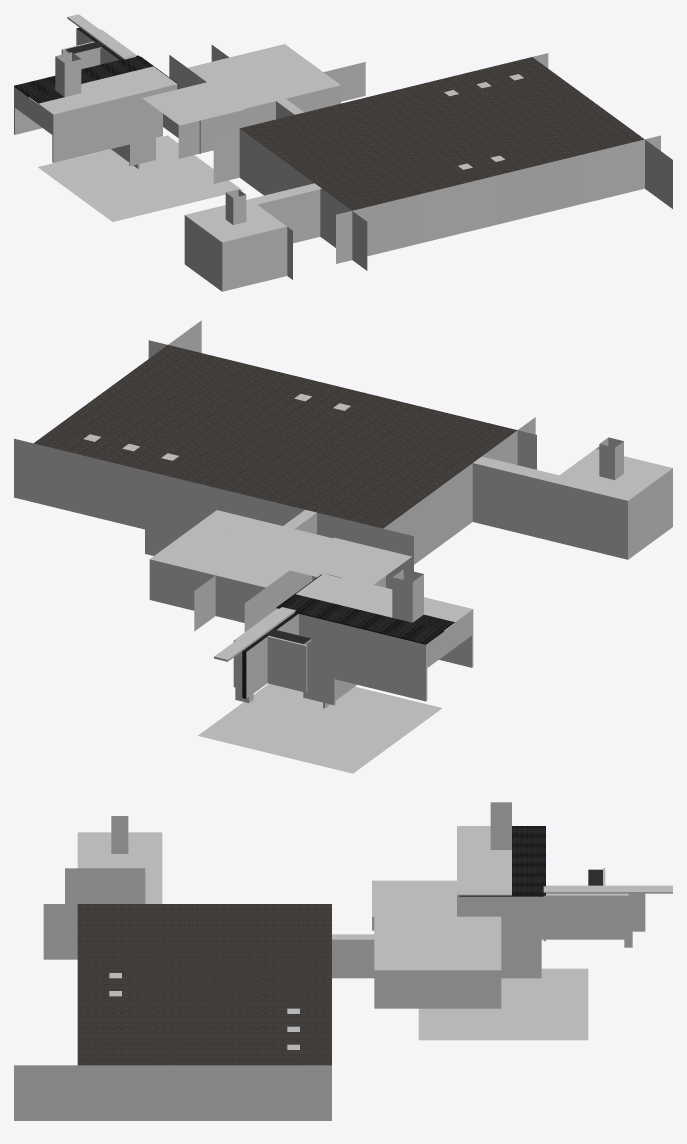
File: MapCobble.obj
3 views of the same model, one above another, from view 1: azimuth 30°, elevation 25°; view 2: azimuth 150°, elevation 25°; view 3: azimuth 270°, elevation 25° (orthographic). The views are drawn at different scales.
Parts seen in each view (by area): view 1: Plane.008_Plane.000, Plane.002_Plane.002, Plane.028_Plane.002, Entrance_Wall.006_Cube.002, Plane.050_Plane.002, Plane.049_Plane.001, Plane.033_Plane.001, Plane.048_Plane.002, Plane.120_Plane.002, Plane.016_Plane.002, Plane.041_Plane.001, Entrance_Wall.007_Cube.002 (+20 smaller); view 2: Plane.008_Plane.000, Plane.002_Plane.002, Plane.028_Plane.002, Entrance_Wall.005_Cube.002, Plane.105_Plane.001, Plane.103_Plane.001, Plane.121_Plane.001, Plane.056_Plane.000, Plane.102_Plane.002, Plane.017_Plane.001, Plane.016_Plane.002, Entrance_Wall.008_Cube.001 (+19 smaller); view 3: Plane.008_Plane.000, Plane.002_Plane.002, Plane.028_Plane.002, Plane.046_Plane.001, Plane.043_Plane.002, Plane.042_Plane.002, Plane.015_Plane.001, Entrance_Wall.001_Cube.002, Plane.016_Plane.002, Plane.117_Plane.001, Entrance_Wall.008_Cube.001, Entrance_Wall.007_Cube.002 (+12 smaller).
Part boxes in pixels (bbox=[...]): Plane.008_Plane.000: bbox=[240, 57, 644, 210]; Plane.002_Plane.002: bbox=[38, 135, 242, 221]; Plane.028_Plane.002: bbox=[187, 44, 340, 108]; Entrance_Wall.006_Cube.002: bbox=[52, 89, 162, 162]; Plane.050_Plane.002: bbox=[417, 175, 498, 243]; Plane.049_Plane.001: bbox=[498, 155, 579, 224]; Plane.033_Plane.001: bbox=[336, 195, 417, 263]; Plane.048_Plane.002: bbox=[579, 135, 660, 204]; Plane.120_Plane.002: bbox=[222, 226, 287, 291]; Plane.016_Plane.002: bbox=[142, 82, 243, 125]; Plane.041_Plane.001: bbox=[239, 128, 286, 195]; Entrance_Wall.007_Cube.002: bbox=[38, 73, 177, 115]; Plane.008_Plane.000: bbox=[34, 345, 517, 528]; Plane.002_Plane.002: bbox=[198, 684, 442, 773]; Plane.028_Plane.002: bbox=[150, 510, 332, 587]; Entrance_Wall.005_Cube.002: bbox=[299, 614, 427, 701]; Plane.105_Plane.001: bbox=[14, 438, 110, 520]; Plane.103_Plane.001: bbox=[111, 462, 208, 529]; Plane.121_Plane.001: bbox=[550, 482, 627, 559]; Plane.056_Plane.000: bbox=[472, 463, 550, 540]; Plane.102_Plane.002: bbox=[208, 486, 413, 571]; Plane.017_Plane.001: bbox=[149, 559, 265, 622]; Plane.016_Plane.002: bbox=[290, 537, 411, 584]; Entrance_Wall.008_Cube.001: bbox=[277, 594, 443, 644]; Plane.008_Plane.000: bbox=[77, 904, 331, 1065]; Plane.002_Plane.002: bbox=[418, 968, 588, 1040]; Plane.028_Plane.002: bbox=[374, 916, 501, 970]; Plane.046_Plane.001: bbox=[120, 1065, 225, 1120]; Plane.043_Plane.002: bbox=[226, 1065, 331, 1120]; Plane.042_Plane.002: bbox=[14, 1065, 119, 1120]; Plane.015_Plane.001: bbox=[374, 970, 501, 1008]; Entrance_Wall.001_Cube.002: bbox=[543, 893, 628, 939]; Plane.016_Plane.002: bbox=[372, 880, 456, 916]; Plane.117_Plane.001: bbox=[65, 868, 145, 903]; Entrance_Wall.008_Cube.001: bbox=[512, 826, 545, 895]; Entrance_Wall.007_Cube.002: bbox=[457, 826, 490, 895].
Size of the model in its own units: 135 by 41 by 156.
